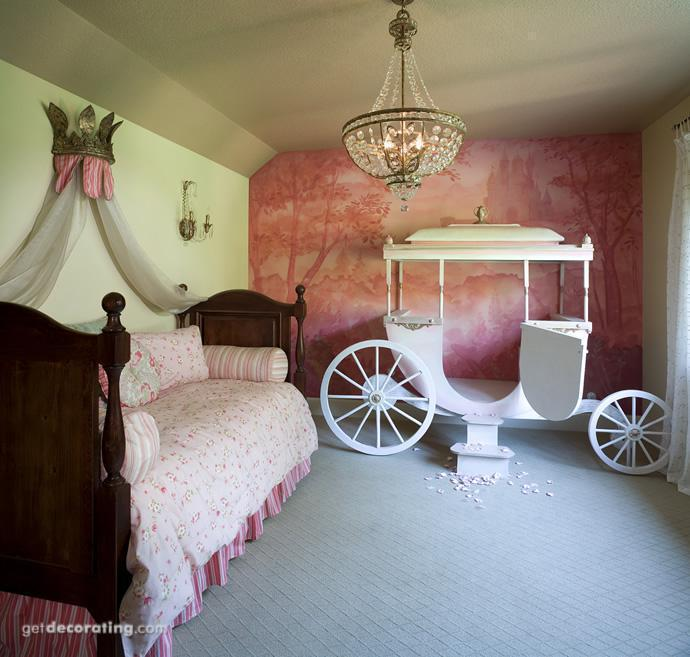Cama: (4, 275, 303, 652)
Otro Obstaculo: (329, 224, 667, 475)
